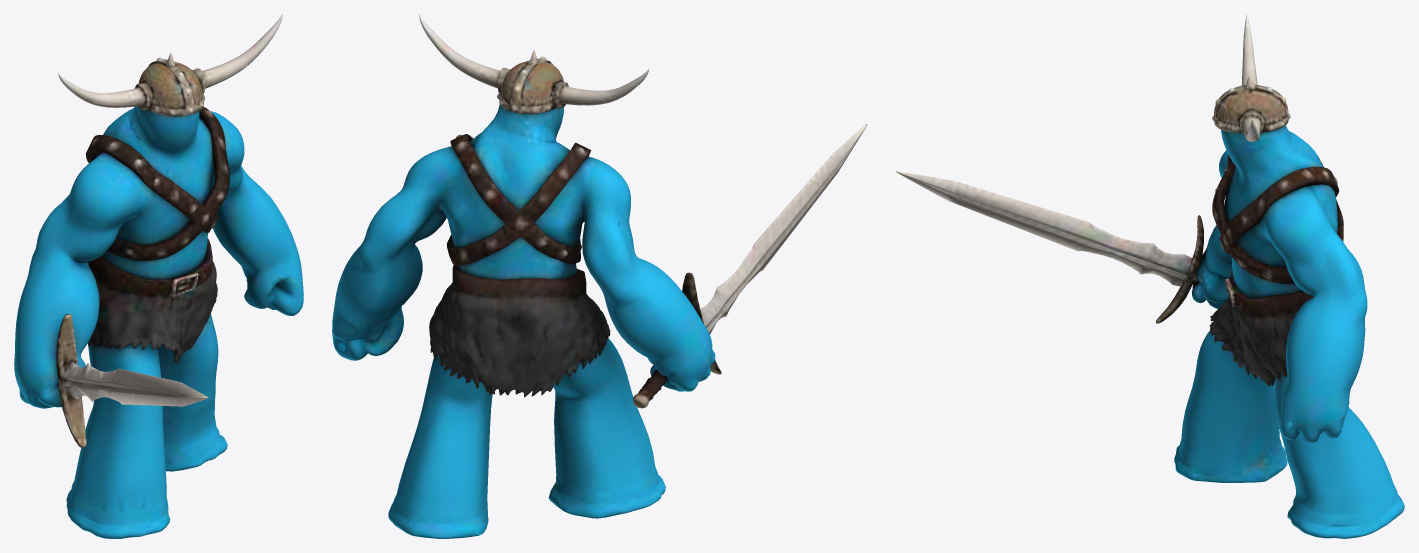
File: MZ4250 - Plasmoid Barbarian (Blue).glb
3 renders of one model, left to right at view 1: azimuth 30°, elevation 25°; view 2: azimuth 150°, elevation 25°; view 3: azimuth 270°, elevation 25°, orthographic. The views are drawn at different scales.
Visible parts, largest first — view 1: Plasmoid Barbarian.001; view 2: Plasmoid Barbarian.001; view 3: Plasmoid Barbarian.001.
Boxes of the visible parts, x1,y1,x2,y2 form: Plasmoid Barbarian.001: (14, 14, 303, 538); Plasmoid Barbarian.001: (332, 14, 867, 538); Plasmoid Barbarian.001: (896, 14, 1404, 538).
Bounding box in the file's own units: 28.53 × 38.49 × 40.78.
Materials: 1 (1 with a texture image).
